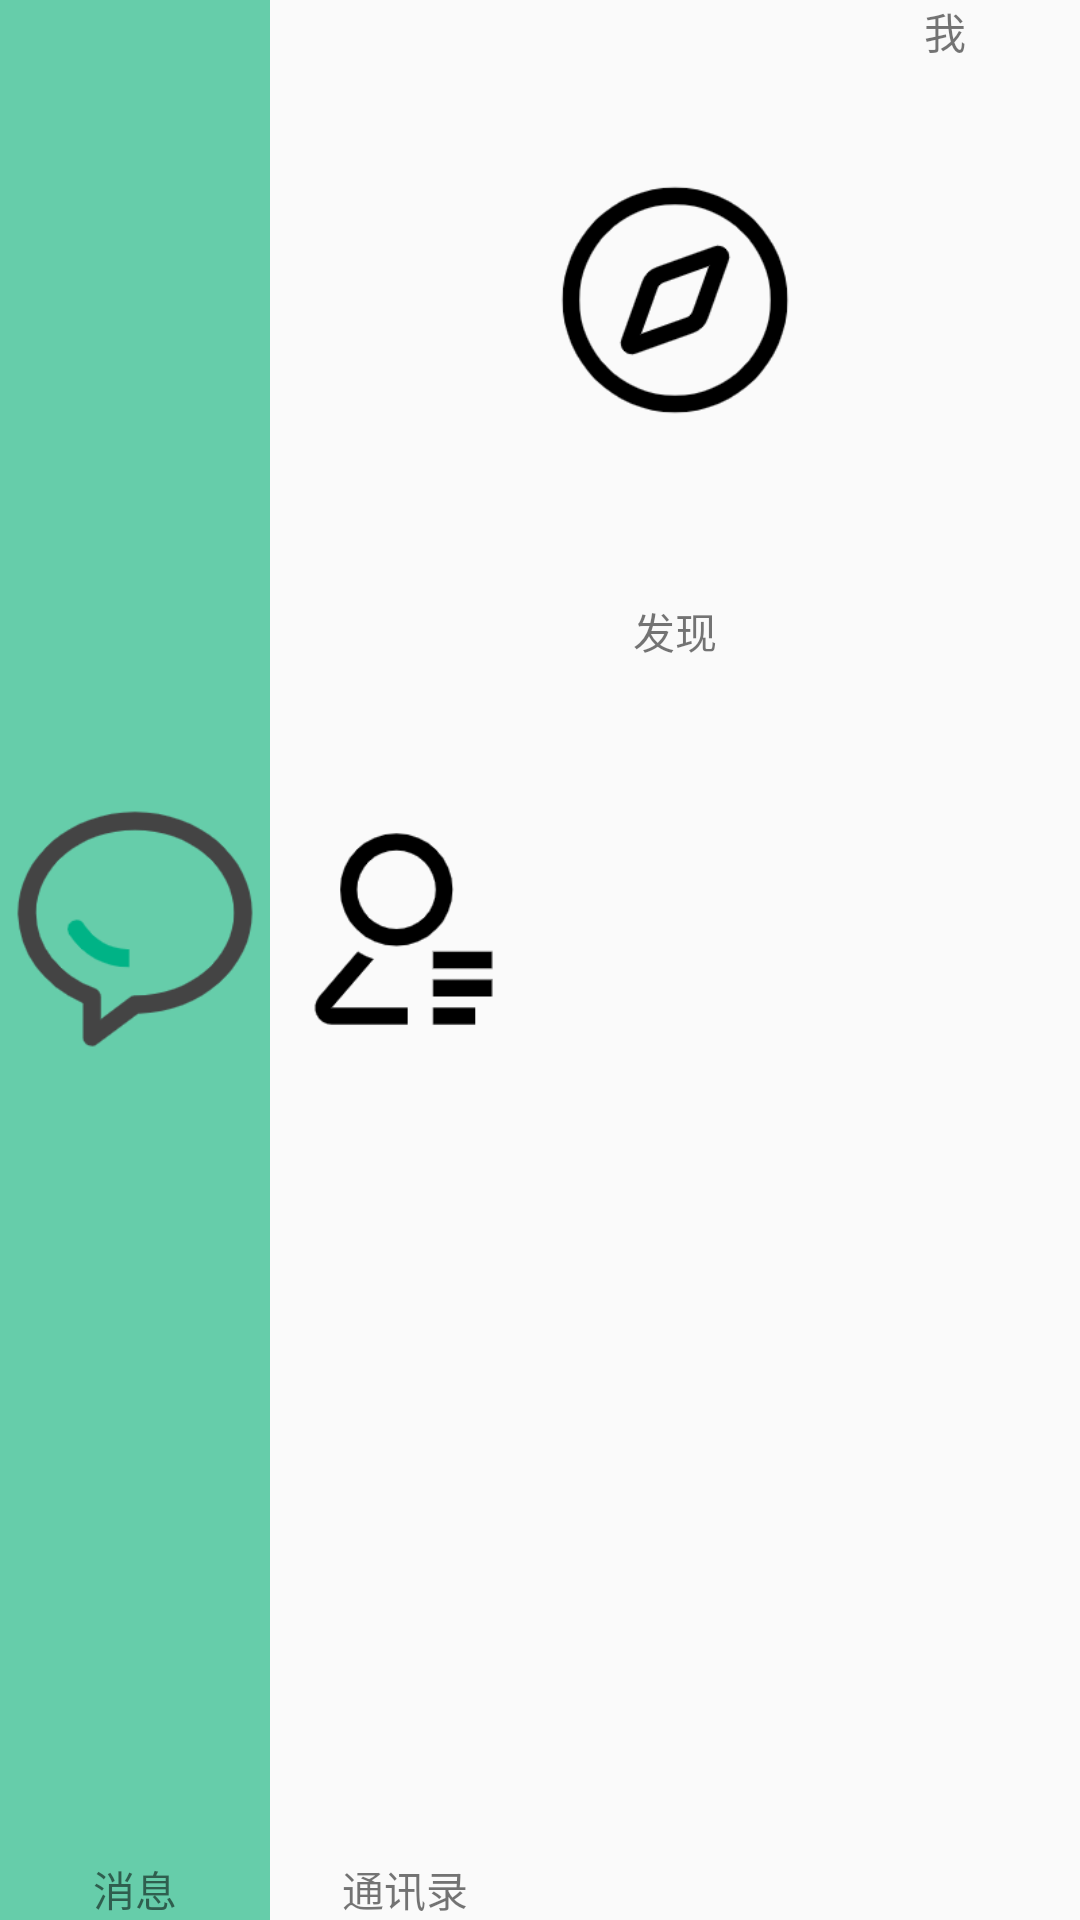

Where to tap for icons on this 1080px x 1920px app screen, as point (x, y):
fanxian: point (675, 300)
